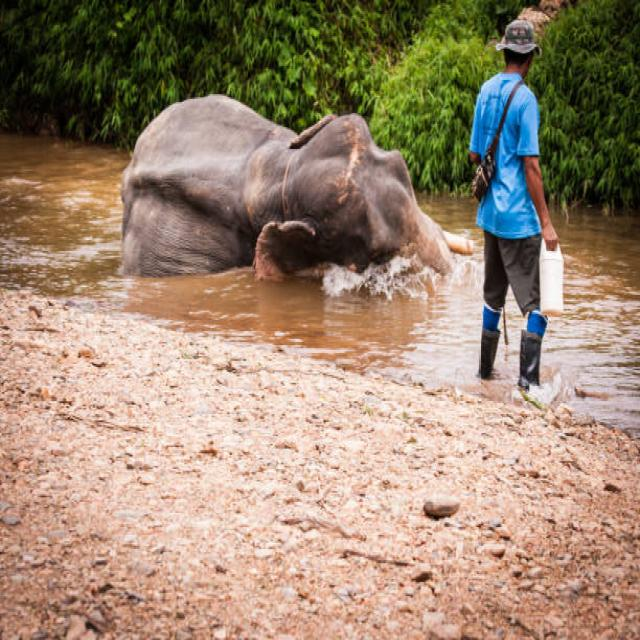Elephant: (115, 90, 468, 290)
